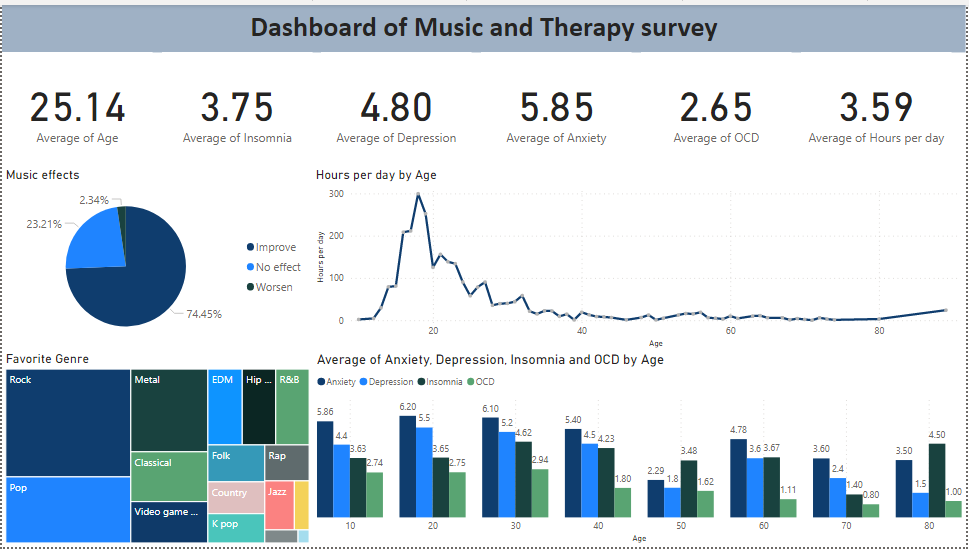

This screenshot's page, from the dashboard's own definition file:
{"tool":"powerbi","page":{"name":"Page 1","canvas":[1280,720],"ordinal":0},"visuals":[{"type":"textbox","box":[0,0,1280.5,62.9],"z":0},{"type":"card","fields":{"Values":["Avg(Music-and-Therapy-survey-1.Age)"]},"box":[0,62.9,200,150.7],"z":1000},{"type":"card","fields":{"Values":["Avg(Music-and-Therapy-survey-1.Insomnia)"]},"box":[212.2,62.9,200,150.7],"z":2000},{"type":"card","fields":{"Values":["Avg(Music-and-Therapy-survey-1.Depression)"]},"box":[424.4,62.9,200,150.7],"z":3000},{"type":"card","fields":{"Values":["Avg(Music-and-Therapy-survey-1.Anxiety)"]},"box":[636.6,62.9,200,150.7],"z":4000},{"type":"card","fields":{"Values":["Avg(Music-and-Therapy-survey-1.OCD)"]},"box":[848.8,62.9,200,150.7],"z":5000},{"type":"card","fields":{"Values":["Avg(Music-and-Therapy-survey-1.Hours per day)"]},"box":[1061,62.9,200,150.7],"z":6000},{"type":"pieChart","fields":{"Category":["Music-and-Therapy-survey-1.Music effects"],"Y":["CountNonNull(Music-and-Therapy-survey-1.Music effects)"]},"box":[0,213.7,424.4,251.7],"z":7000},{"type":"lineChart","fields":{"Category":["Music-and-Therapy-survey-1.Age (bins)"],"Y":["Sum(Music-and-Therapy-survey-1.Hours per day)"]},"box":[412.7,237.1,848.8,244.4],"z":8000},{"type":"treemap","fields":{"Values":["CountNonNull(Music-and-Therapy-survey-1.Fav genre)"],"Group":["Music-and-Therapy-survey-1.Fav genre"]},"box":[0,481.5,412.7,238.5],"z":9000},{"type":"clusteredColumnChart","title":"Average of Anxiety, Average of Depression, Average of Insomnia and Average of OCD by Age","fields":{"Y":["Avg(Music-and-Therapy-survey-1.Anxiety)","Avg(Music-and-Therapy-survey-1.Depression)","Avg(Music-and-Therapy-survey-1.Insomnia)","Avg(Music-and-Therapy-survey-1.OCD)"],"Category":["Music-and-Therapy-survey-1.Age (bins) 2"]},"box":[412.7,481.5,867.8,238.5],"z":10000}]}

Visuals, with their boxes in screenshot pixels (x1, y1, x2, y2), scaled from the page's 1280x720 canvas onto the 969x549 screenshot:
textbox: [0, 0, 968, 48]
card - Avg(Music-and-Therapy-survey-1.Age): [0, 48, 151, 163]
card - Avg(Music-and-Therapy-survey-1.Insomnia): [161, 48, 312, 163]
card - Avg(Music-and-Therapy-survey-1.Depression): [321, 48, 473, 163]
card - Avg(Music-and-Therapy-survey-1.Anxiety): [482, 48, 633, 163]
card - Avg(Music-and-Therapy-survey-1.OCD): [643, 48, 794, 163]
card - Avg(Music-and-Therapy-survey-1.Hours per day): [803, 48, 955, 163]
pieChart - Music-and-Therapy-survey-1.Music effects x CountNonNull(Music-and-Therapy-survey-1.Music effects): [0, 163, 321, 355]
lineChart - Music-and-Therapy-survey-1.Age (bins) x Sum(Music-and-Therapy-survey-1.Hours per day): [312, 181, 955, 367]
treemap - CountNonNull(Music-and-Therapy-survey-1.Fav genre) x Music-and-Therapy-survey-1.Fav genre: [0, 367, 312, 548]
"Average of Anxiety, Average of Depression, Average of Insomnia and Average of OCD by Age" clusteredColumnChart: [312, 367, 968, 548]
